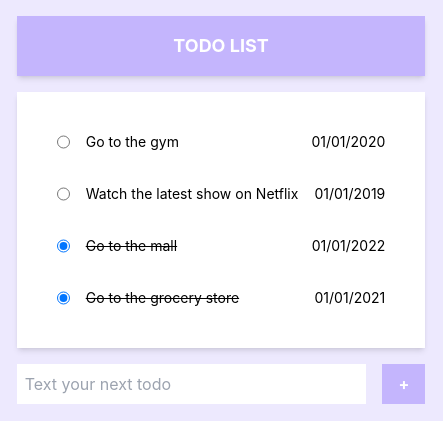
Scenario: TodosList actions › if the newTodo input is not empty, the button is enabled
Type "Buy milk" into the field with test id "newTodo". click: (192, 384)
box: [17,364,366,404]
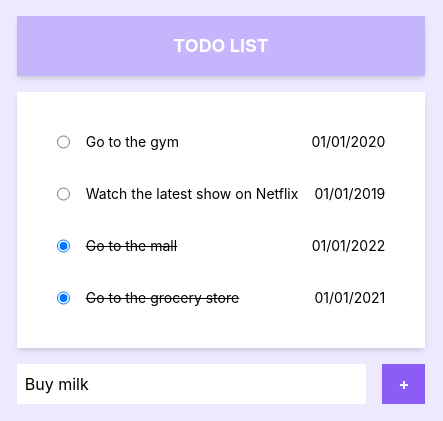
expect the button with test id "addTodo" is enabled: met, box [382,364,425,404]
